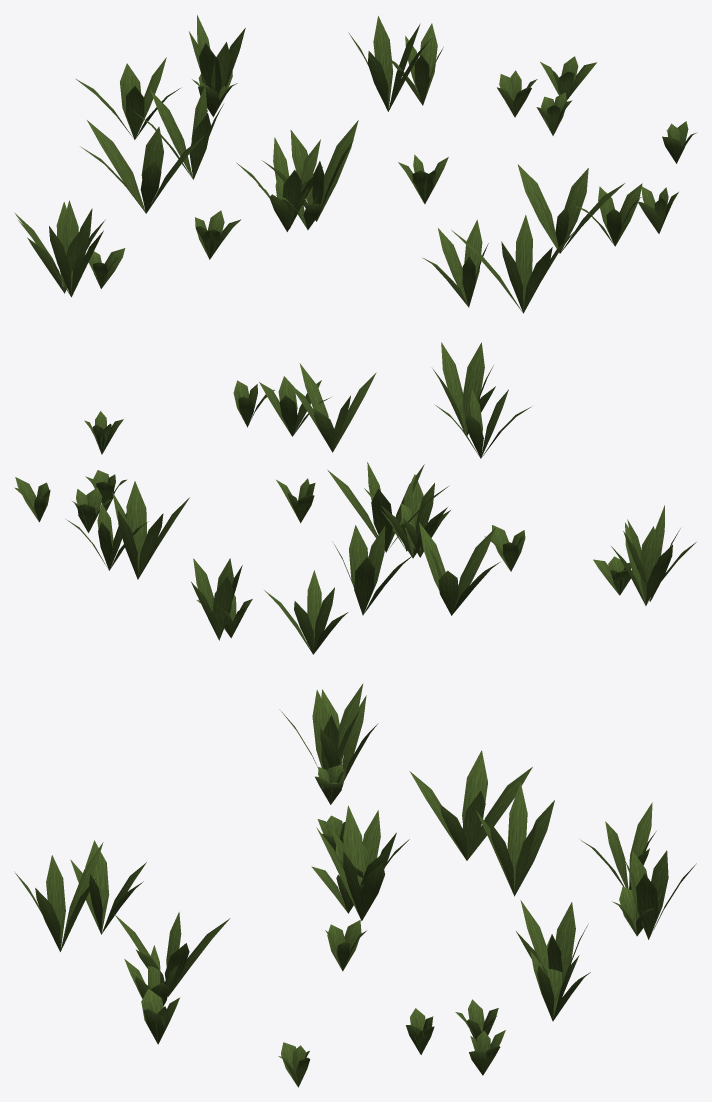
File: WoodlandMoss_A.fbx
The picture shows the model from 3 angles, top to bottom: view 1: azimuth 30°, elevation 25°; view 2: azimuth 150°, elevation 25°; view 3: azimuth 270°, elevation 25°; orthographic projection. The views are drawn at different scales.
Parts seen in each view (by area): view 1: WoodlandMoss_A_LOD0; view 2: WoodlandMoss_A_LOD0; view 3: WoodlandMoss_A_LOD0.
Boxes of the visible parts, x1,y1,x2,y2 form: WoodlandMoss_A_LOD0: [14, 15, 697, 313]; WoodlandMoss_A_LOD0: [14, 342, 696, 654]; WoodlandMoss_A_LOD0: [14, 683, 696, 1087].
Size of what is drawn, in the model's own units: 25.27 by 3.1 by 22.19.
1 material, 1 textured.
